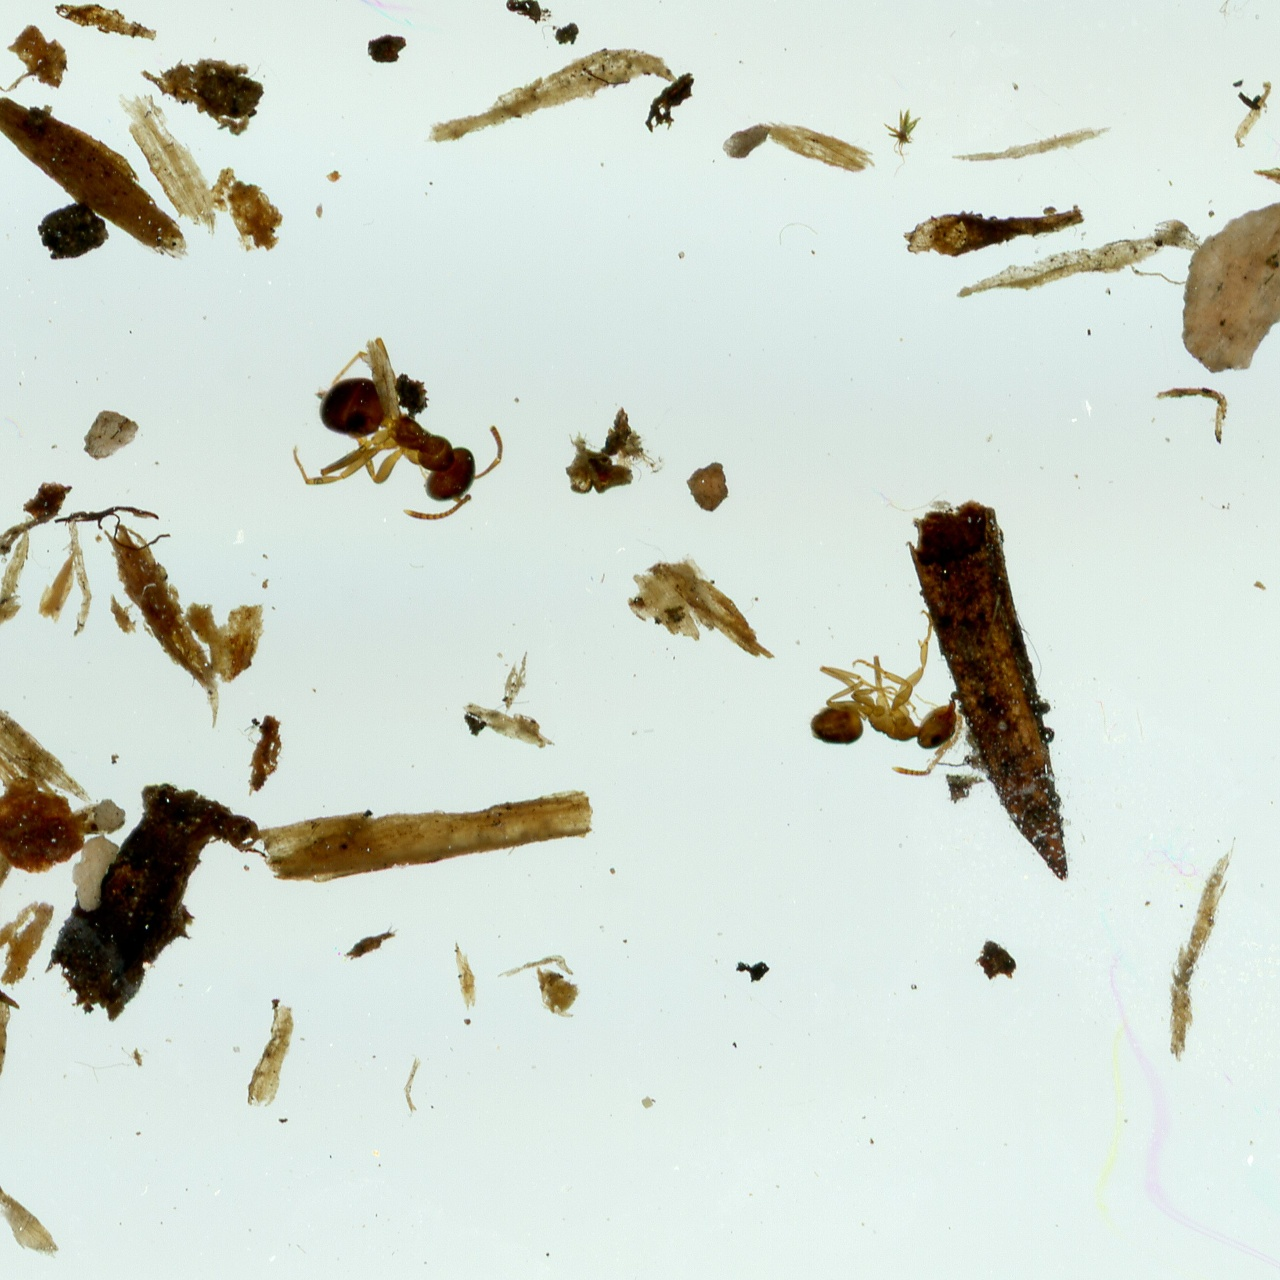arthropod: (287, 332, 508, 525), (806, 608, 966, 782)
